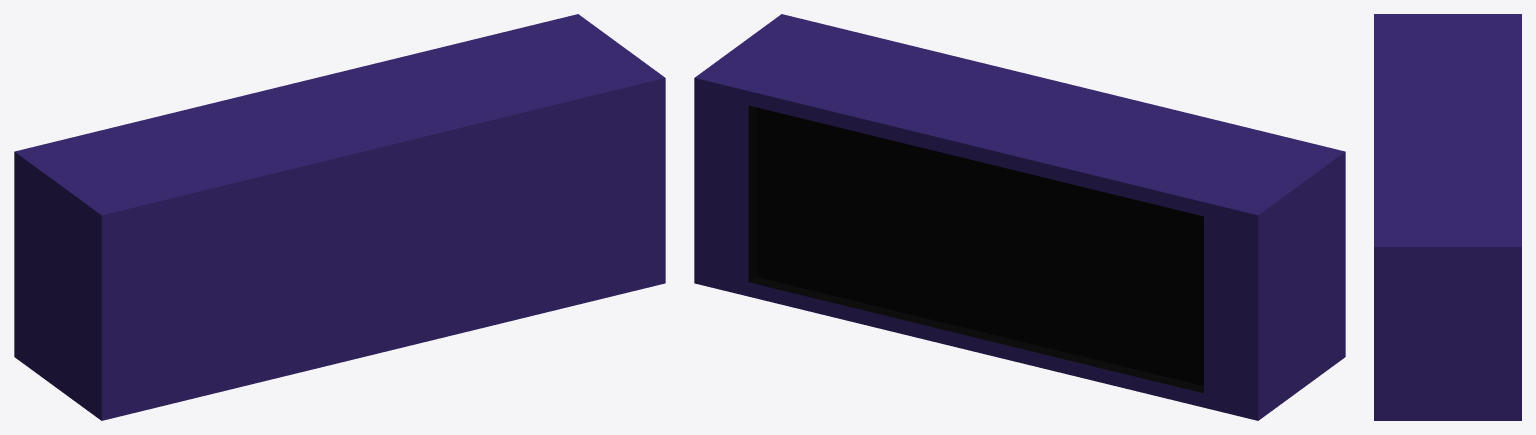
The model's file is Meja DJ.fbx.
3 views of the same model, side by side, from view 1: azimuth 30°, elevation 25°; view 2: azimuth 150°, elevation 25°; view 3: azimuth 270°, elevation 25° (orthographic). The views are drawn at different scales.
Parts seen in each view (by area): view 1: Cube; view 2: Cube; view 3: Cube.
Boxes of the visible parts, <box> form: Cube: <box>14,14,665,420</box>; Cube: <box>694,14,1345,420</box>; Cube: <box>1374,14,1521,420</box>.
Bounding box in the file's own units: 746 × 260 × 200.
